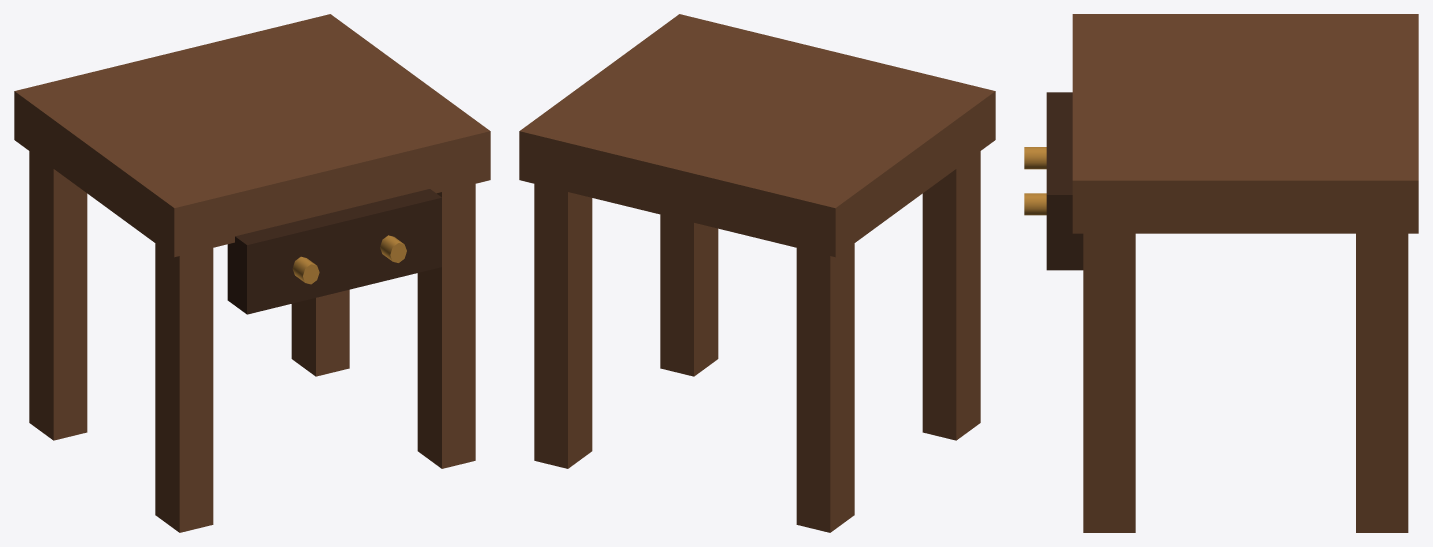
Rendered from desk.glb.
3 views of the same model, side by side, from view 1: azimuth 30°, elevation 25°; view 2: azimuth 150°, elevation 25°; view 3: azimuth 270°, elevation 25° (orthographic). The views are drawn at different scales.
Parts seen in each view (by area): view 1: Desk top, Desk leg (×4), Drawer; view 2: Desk top, Desk leg (×4); view 3: Desk top, Desk leg (×2), Drawer, Drawer pull (×2).
Part boxes in pixels (x1,y1,x2,y2): Desk top: [14, 14, 490, 257]; Desk leg (×4): [29, 151, 475, 532]; Drawer: [227, 189, 441, 314]; Desk top: [519, 14, 995, 257]; Desk leg (×4): [534, 151, 980, 532]; Desk top: [1072, 14, 1418, 233]; Desk leg (×2): [1083, 233, 1408, 532]; Drawer: [1046, 92, 1083, 270]; Drawer pull (×2): [1024, 147, 1046, 215].
Bounding box in the file's own units: 1 × 1 × 1.
